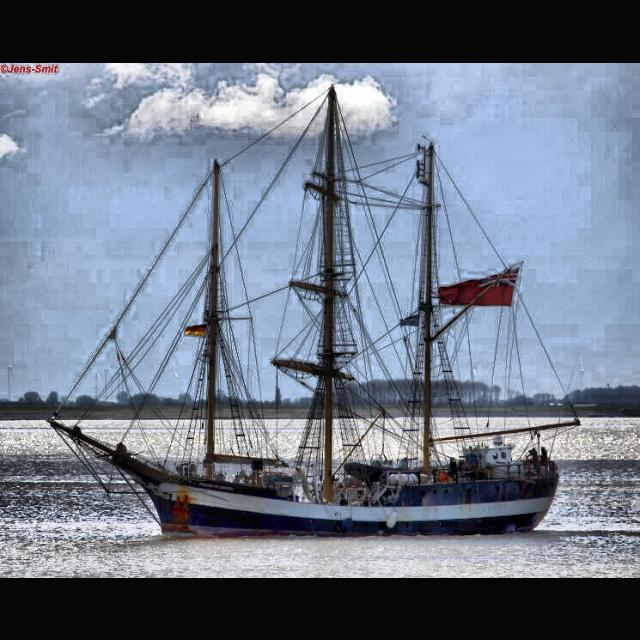sailing_vessel: (43, 83, 580, 540)
